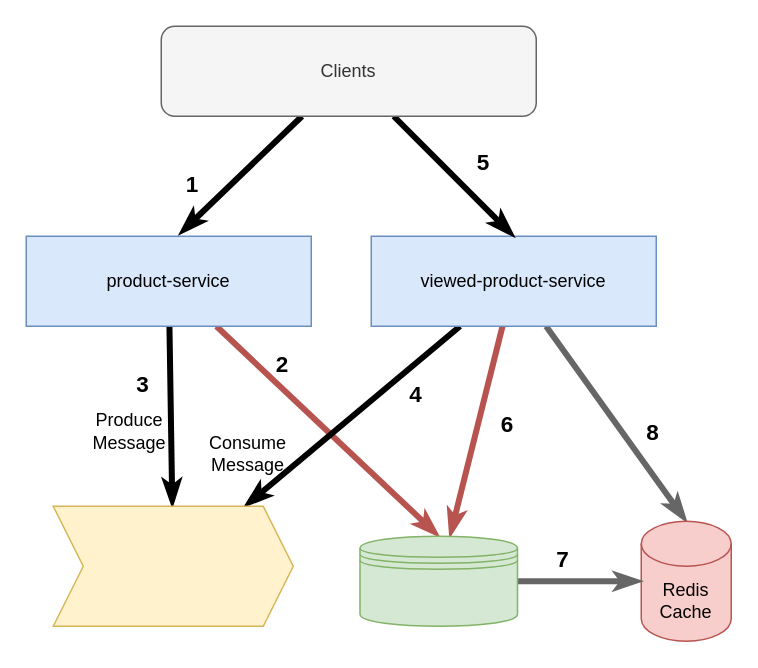
The diagram is 758 pixels wide and 668 high, and some of its shapes have lost their labels. The shapes that lost their labels are listed below. From the top down, each one's box as (x1, y1, x2, y2) in pixels, then its label:
(52, 505, 293, 626): RabbitMQ
(358, 535, 518, 626): MySQL
